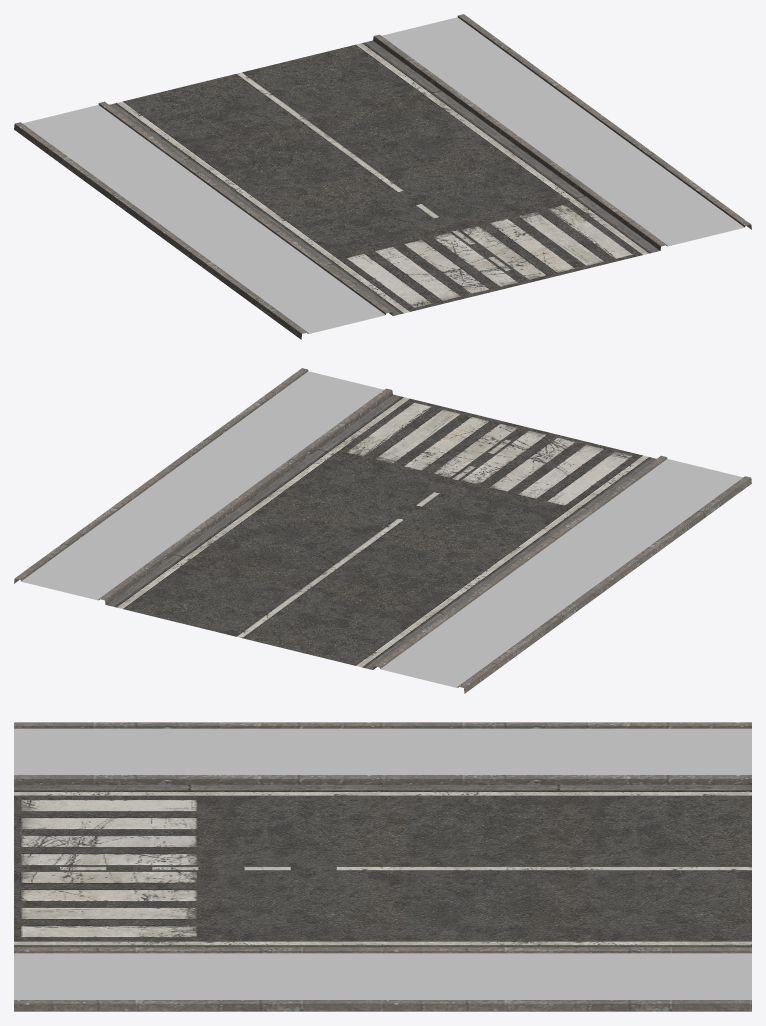
Rendered from lumian.FBX.
3 renders of one model, top to bottom at view 1: azimuth 30°, elevation 25°; view 2: azimuth 150°, elevation 25°; view 3: azimuth 270°, elevation 25°, orthographic. The views are drawn at different scales.
Visible parts, largest first — view 1: lumian, lu3, lu4, polySurface66, lixian2; view 2: lumian, lu3, lu4, polySurface66, lixian2; view 3: lumian, lu3, lu4, polySurface66, lixian2.
Part boxes in pixels (x1,y1,x2,y2): lumian: (23, 17, 744, 333); lu3: (259, 148, 650, 313); lu4: (115, 42, 506, 208); polySurface66: (14, 14, 751, 339); lixian2: (109, 40, 659, 315); lumian: (21, 371, 742, 687); lu3: (259, 396, 650, 562); lu4: (115, 502, 506, 667); polySurface66: (14, 368, 751, 693); lixian2: (106, 394, 656, 669); lumian: (14, 728, 751, 999); lu3: (14, 790, 382, 946); lu4: (383, 790, 751, 946); polySurface66: (14, 722, 751, 1011); lixian2: (14, 784, 751, 947).
Size of the model in its own units: 7.24 by 0.0888 by 8.
